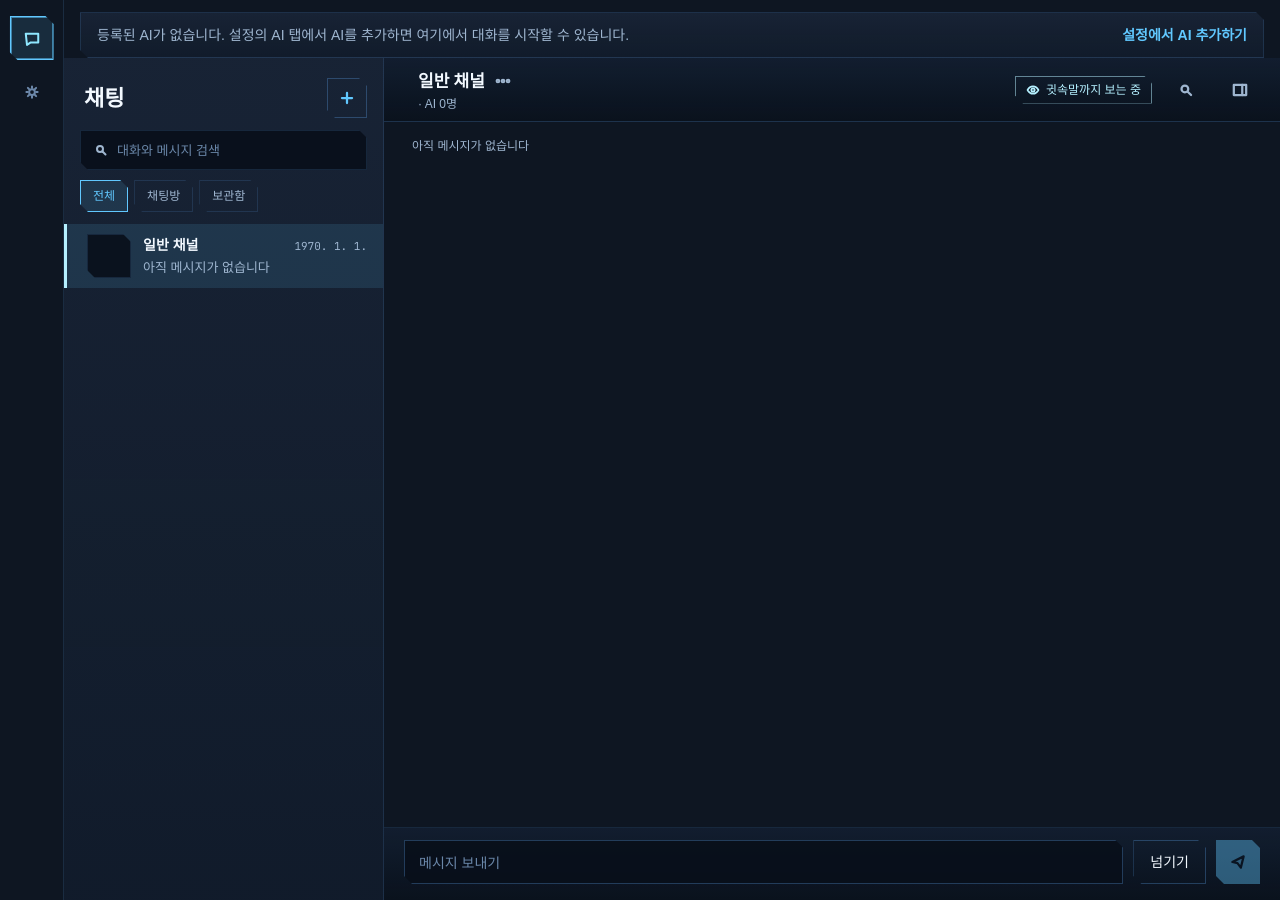
Test: chat-first shell › has no AI add button outside settings; the empty chat links to the settings AI tab
Expected: the element with test id "chat-empty-provider" is shown, top-left (80, 12), bottom-right (1264, 58)
Click the button with test id "chat-empty-connect" at (1185, 35), box top-left (1122, 25), bottom-right (1247, 45)
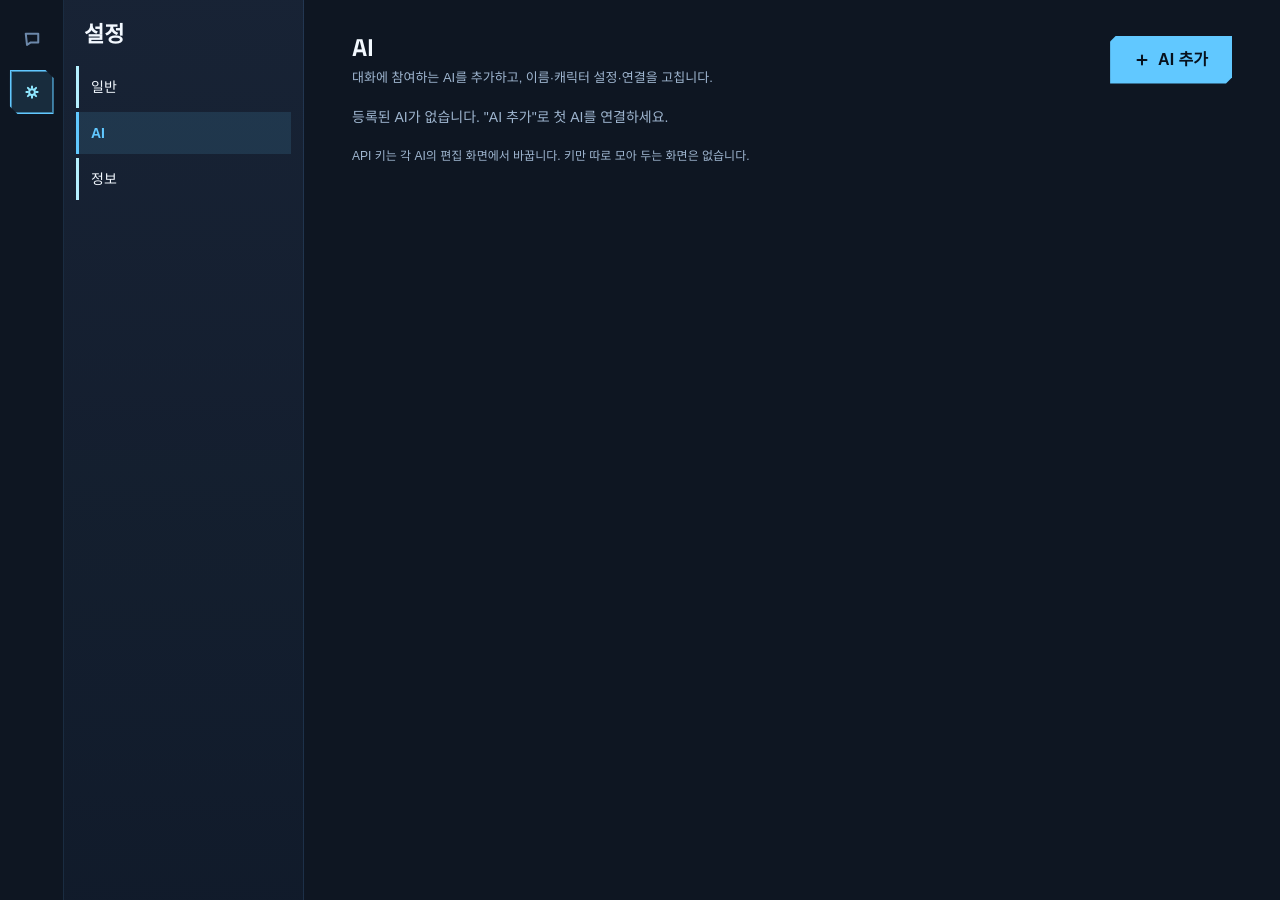
Expected: the element with test id "settings-tab-ai" is shown, top-left (352, 32), bottom-right (1232, 165)
Expected: the button with test id "settings-ai-add" is shown, top-left (1110, 36), bottom-right (1232, 84)
